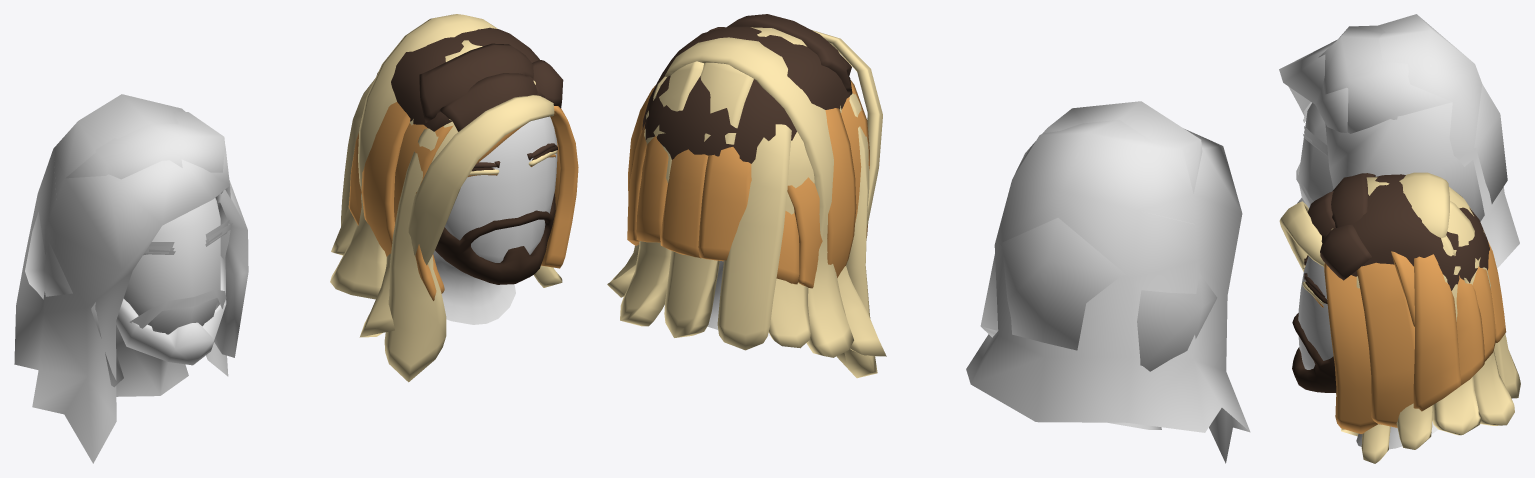
File: AvatarHair.fbx
3 views of the same model, side by side, from view 1: azimuth 30°, elevation 25°; view 2: azimuth 150°, elevation 25°; view 3: azimuth 270°, elevation 25° (orthographic). The views are drawn at different scales.
Visible parts, largest first — view 1: AvatarHair_02_lod, AvatarHair_02, AvatarHead, AvatarHair_03, AvatarHead_lod, AvatarHair_01, AvatarHair_03_lod, AvatarHair_01_lod, AvatarHair_04_lod, AvatarHair_04; view 2: AvatarHair_02_lod, AvatarHair_02, AvatarHair_01, AvatarHair_01_lod, AvatarHair_03, AvatarHair_03_lod; view 3: AvatarHair_01, AvatarHair_02, AvatarHair_02_lod, AvatarHair_03, AvatarHair_01_lod, AvatarHair_03_lod, AvatarHead, AvatarHead_lod, AvatarHair_04, AvatarHair_04_lod.
Part boxes in pixels (x1=…): AvatarHair_02_lod: x1=14, y1=94, x2=230, y2=463; AvatarHair_02: x1=330, y1=14, x2=562, y2=382; AvatarHead: x1=433, y1=116, x2=557, y2=324; AvatarHair_03: x1=377, y1=27, x2=563, y2=167; AvatarHead_lod: x1=116, y1=198, x2=220, y2=396; AvatarHair_01: x1=348, y1=102, x2=578, y2=300; AvatarHair_03_lod: x1=66, y1=111, x2=229, y2=247; AvatarHair_01_lod: x1=25, y1=161, x2=248, y2=387; AvatarHair_04_lod: x1=116, y1=223, x2=232, y2=365; AvatarHair_04: x1=435, y1=145, x2=557, y2=284; AvatarHair_02_lod: x1=966, y1=120, x2=1250, y2=463; AvatarHair_02: x1=607, y1=27, x2=886, y2=378; AvatarHair_01: x1=627, y1=80, x2=869, y2=288; AvatarHair_01_lod: x1=980, y1=214, x2=1217, y2=371; AvatarHair_03: x1=642, y1=14, x2=852, y2=163; AvatarHair_03_lod: x1=1013, y1=101, x2=1202, y2=193; AvatarHair_01: x1=1305, y1=241, x2=1506, y2=433; AvatarHair_02: x1=1279, y1=172, x2=1520, y2=463; AvatarHair_02_lod: x1=1279, y1=14, x2=1519, y2=268; AvatarHair_03: x1=1304, y1=173, x2=1489, y2=296; AvatarHair_01_lod: x1=1303, y1=84, x2=1507, y2=221; AvatarHair_03_lod: x1=1304, y1=25, x2=1452, y2=150; AvatarHead: x1=1298, y1=256, x2=1438, y2=449; AvatarHead_lod: x1=1298, y1=103, x2=1333, y2=208; AvatarHair_04: x1=1292, y1=281, x2=1336, y2=392; AvatarHair_04_lod: x1=1296, y1=113, x2=1327, y2=207.
Size of the model in its own units: 16567 by 9301 by 6877.
